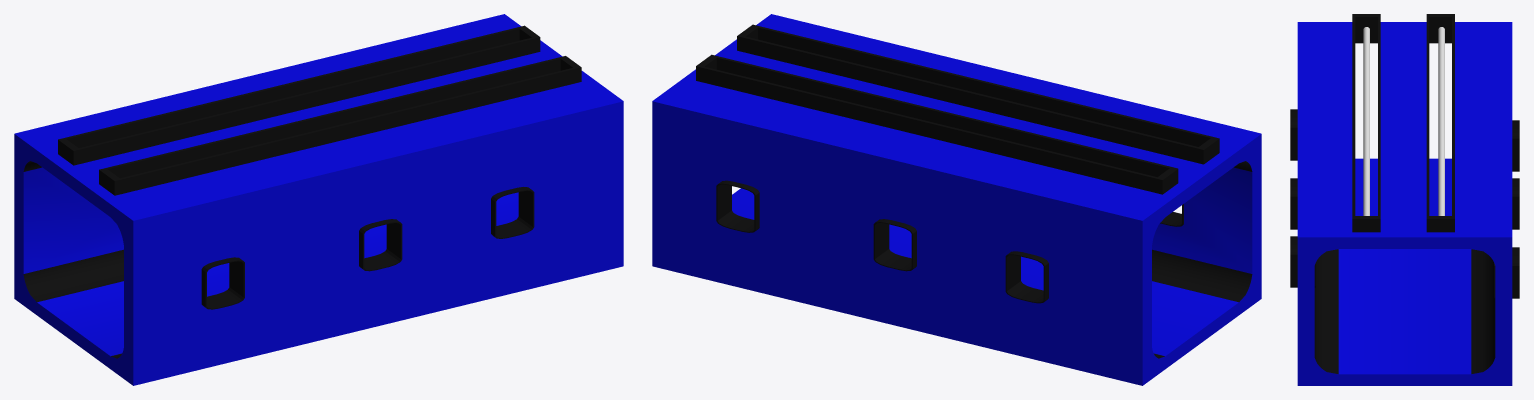
File: LevelBlock.fbx
3 renders of one model, left to right at view 1: azimuth 30°, elevation 25°; view 2: azimuth 150°, elevation 25°; view 3: azimuth 270°, elevation 25°, orthographic. The views are drawn at different scales.
Visible parts, largest first — view 1: LevelBlock; view 2: LevelBlock; view 3: LevelBlock.
Boxes of the visible parts, x1,y1,x2,y2 form: LevelBlock: [14, 14, 623, 385]; LevelBlock: [652, 14, 1261, 385]; LevelBlock: [1290, 14, 1519, 385].
Size of the model in its own units: 10000 by 3500 by 4500.
